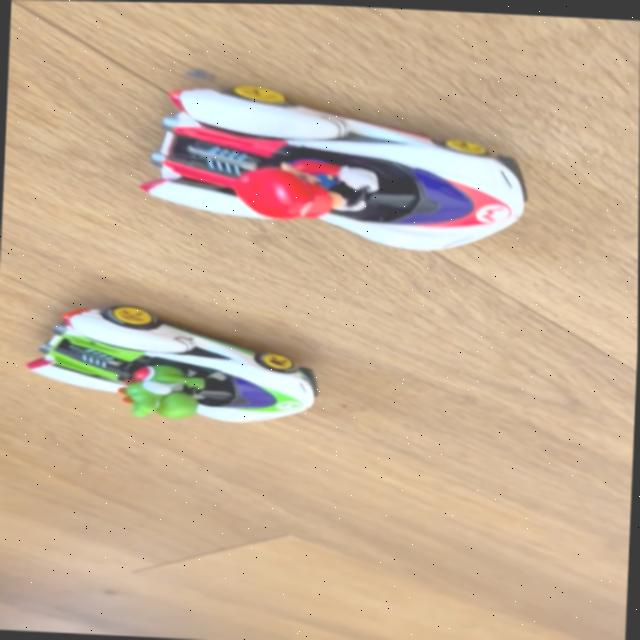mario: (118, 77, 541, 256)
yoshi: (15, 305, 337, 434)
